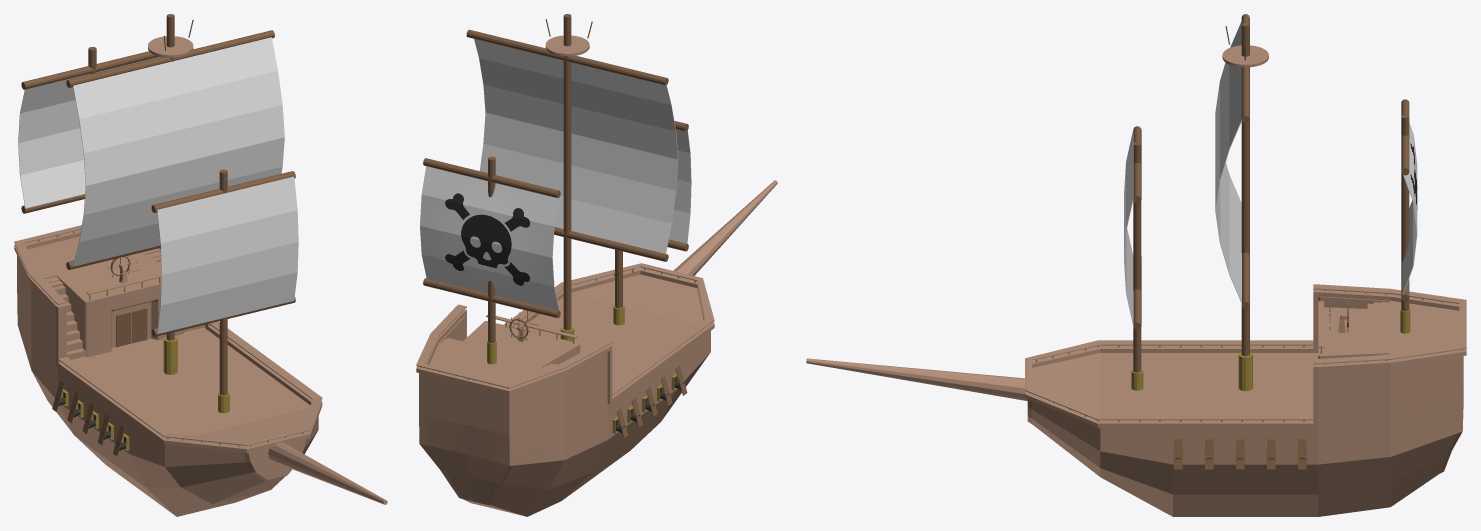
File: Gemi.fbx
3 views of the same model, side by side, from view 1: azimuth 30°, elevation 25°; view 2: azimuth 150°, elevation 25°; view 3: azimuth 270°, elevation 25° (orthographic). The views are drawn at different scales.
Parts seen in each view (by area): view 1: Cube.011; view 2: Cube.011; view 3: Cube.011.
Boxes of the visible parts, x1=… form: Cube.011: x1=14, y1=14, x2=387, y2=516; Cube.011: x1=416, y1=14, x2=777, y2=516; Cube.011: x1=806, y1=14, x2=1466, y2=516.
Size of the model in its own units: 2.82 by 6.16 by 7.71.
Materials: 6 (1 with a texture image).
